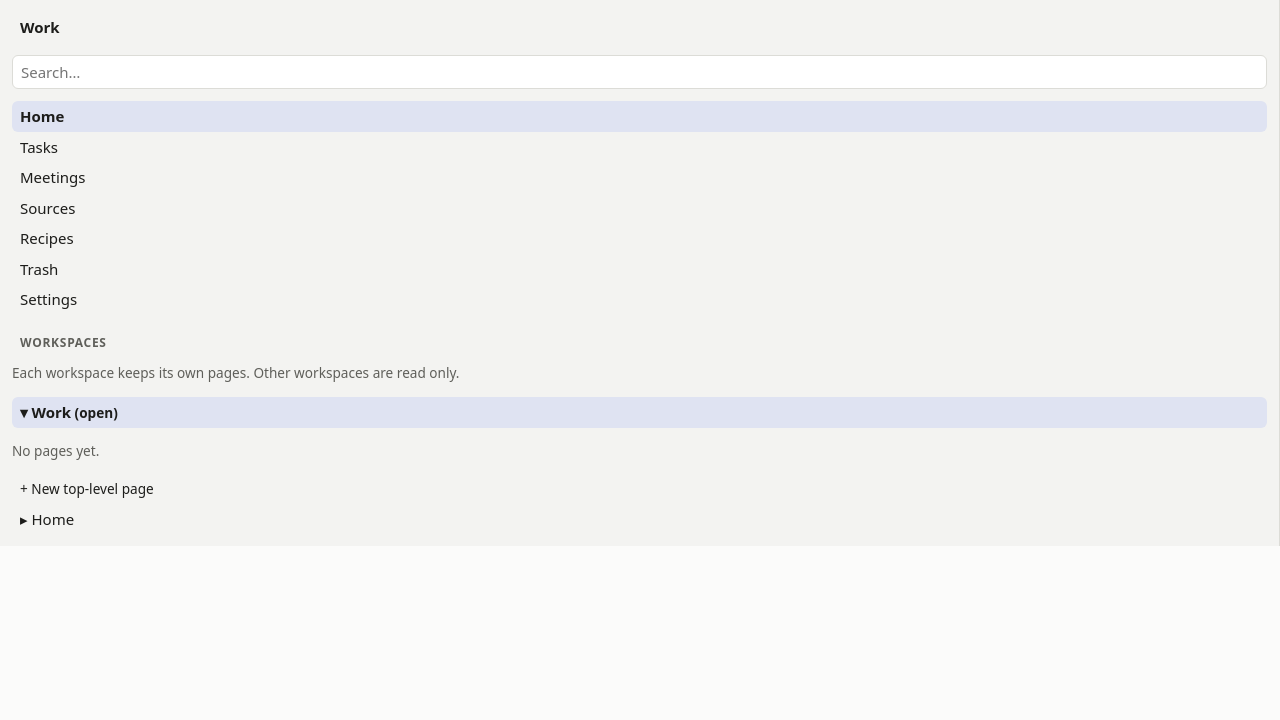
Test: Sidebar pages by workspace › offers no add-page control on another workspace
What coordinates should you click on to do the following:
click the button "▸ Home"
I would click on:
 (53, 519)
Its box is [12,504,1267,534].
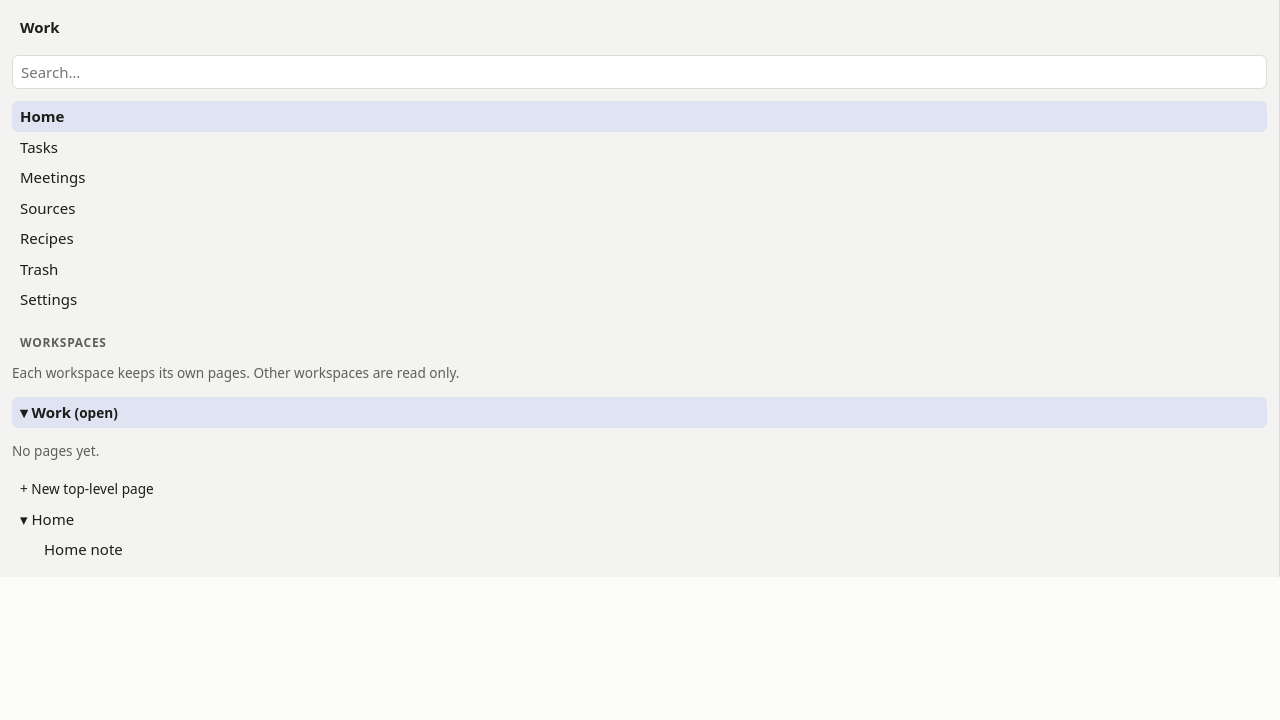
Now the button "Home note" is shown, box [36,534,1267,564]
